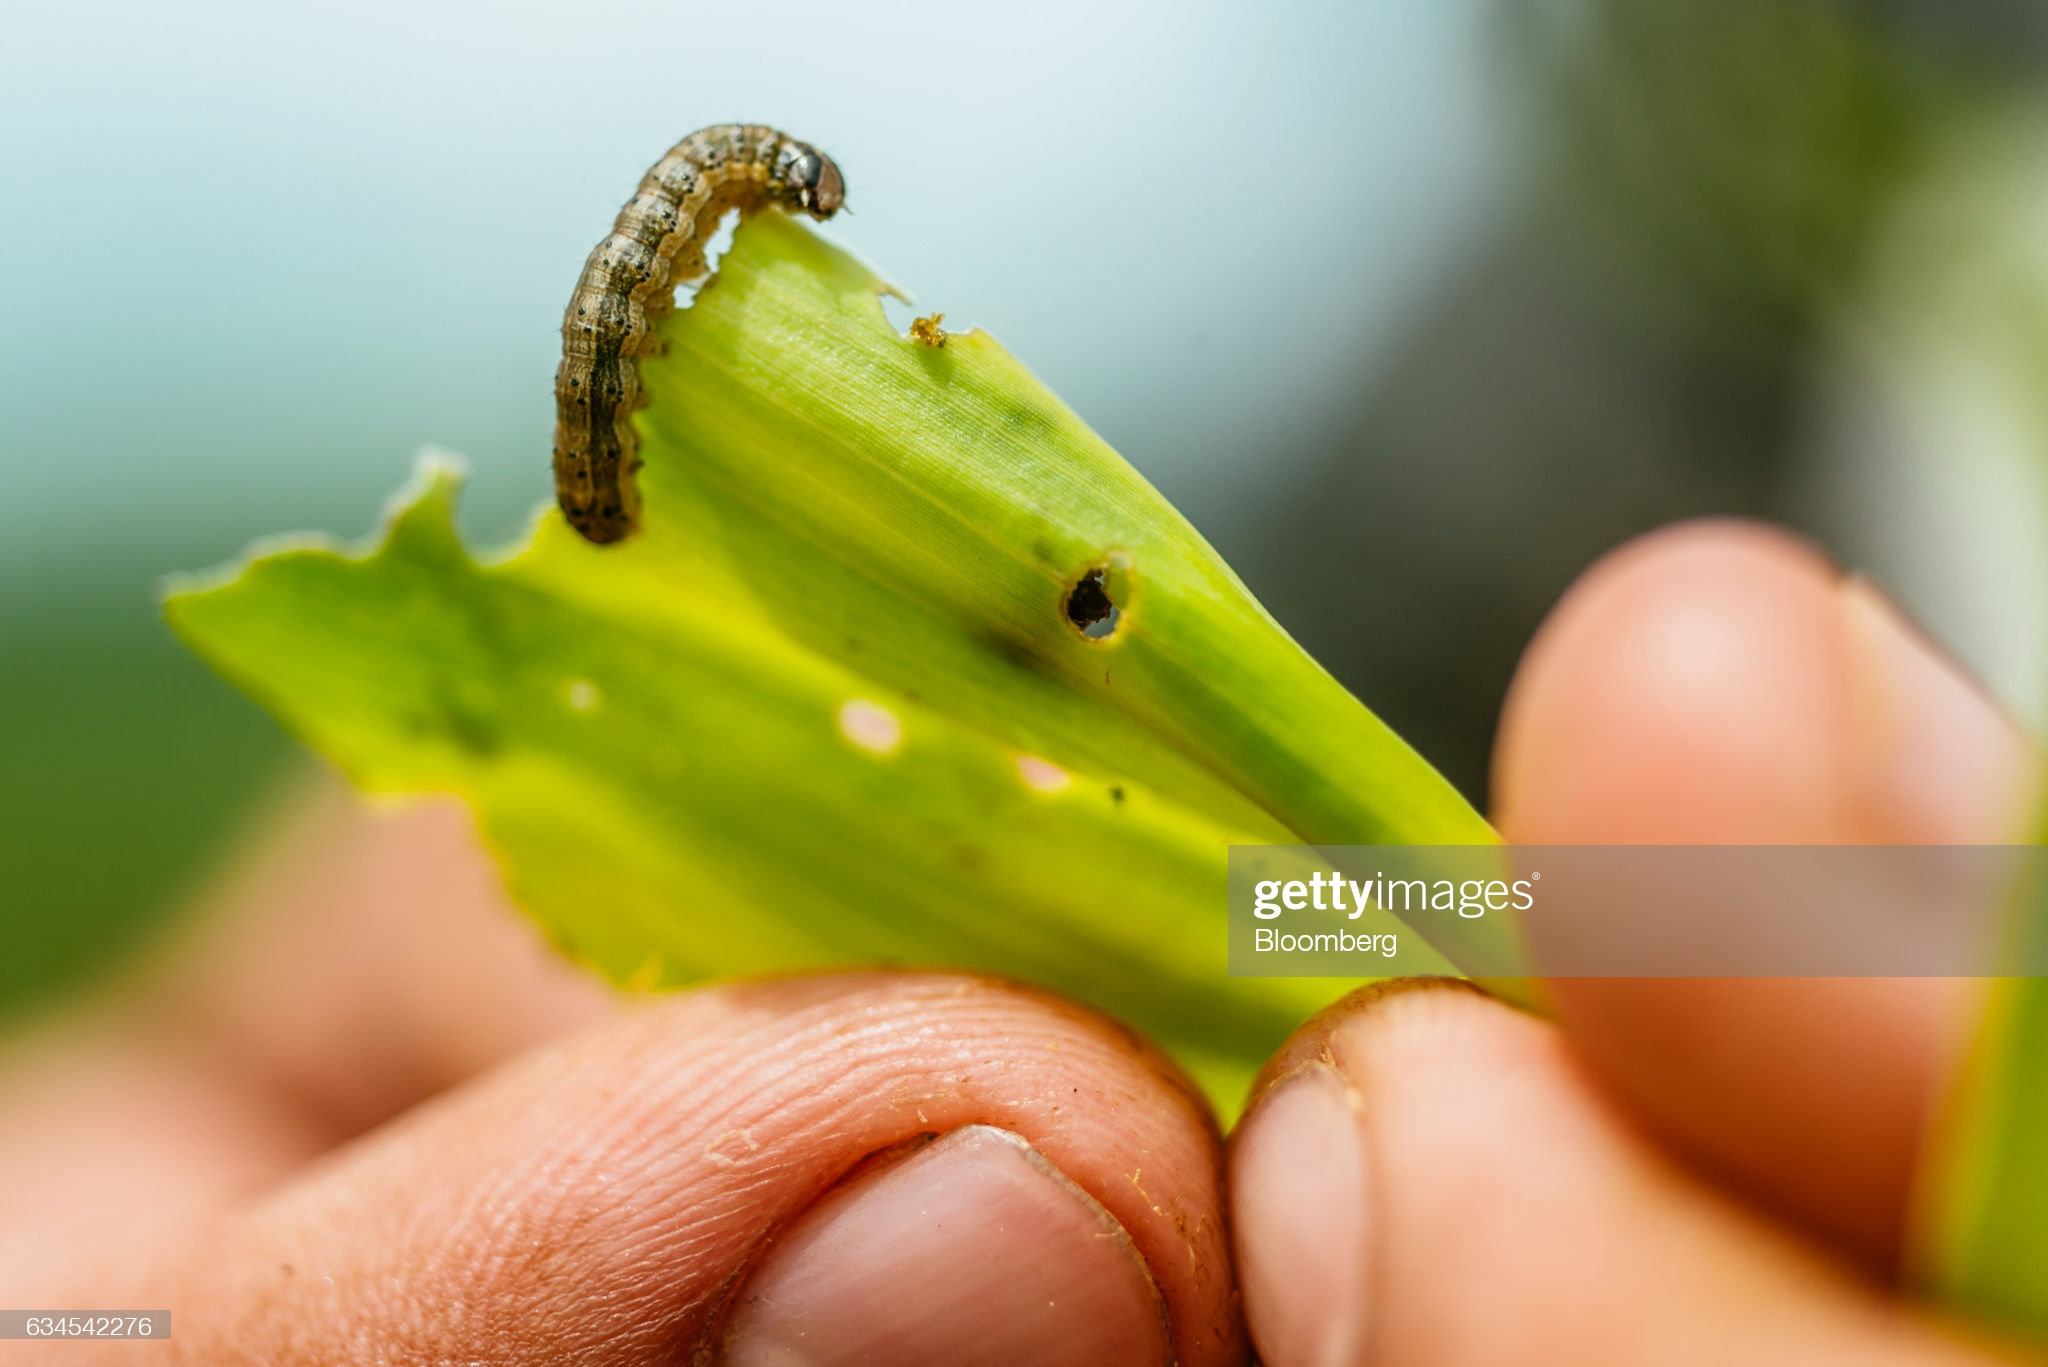Armyworm: (524, 73, 860, 554)
